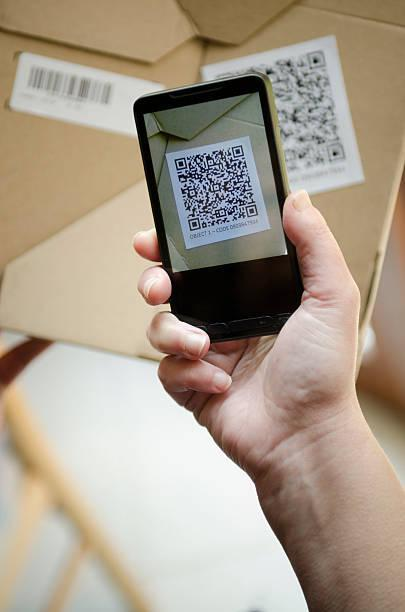Finder pattern: (303, 44, 330, 76), (322, 138, 350, 167), (184, 213, 206, 235), (241, 202, 263, 221), (229, 142, 247, 162), (173, 155, 190, 173)
